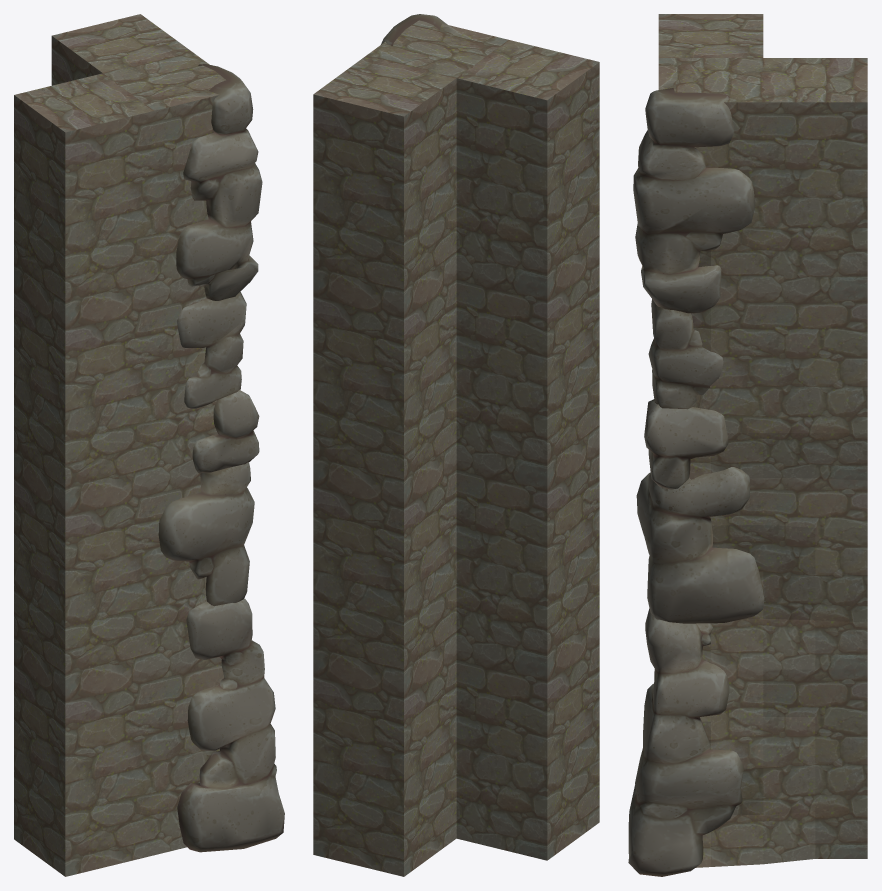
File: MSH_fwOF_Ruins_Wall_Corner_Bot.fbx
The picture shows the model from 3 angles, left to right: view 1: azimuth 30°, elevation 25°; view 2: azimuth 150°, elevation 25°; view 3: azimuth 270°, elevation 25°; orthographic projection. The views are drawn at different scales.
Visible parts, largest first — view 1: MSH_fwOF_Ruins_Wall_Corner_Bot, MSH_fwOF_Ruins_Wall_Corner_LOD0; view 2: MSH_fwOF_Ruins_Wall_Corner_Bot, MSH_fwOF_Ruins_Wall_Corner_LOD0; view 3: MSH_fwOF_Ruins_Wall_Corner_Bot, MSH_fwOF_Ruins_Wall_Corner_LOD0.
Boxes of the visible parts, left/top/right/bottom form: MSH_fwOF_Ruins_Wall_Corner_Bot: left=14, top=14, right=225, bottom=876; MSH_fwOF_Ruins_Wall_Corner_LOD0: left=158, top=64, right=284, bottom=852; MSH_fwOF_Ruins_Wall_Corner_Bot: left=313, top=20, right=599, bottom=876; MSH_fwOF_Ruins_Wall_Corner_LOD0: left=381, top=14, right=447, bottom=45; MSH_fwOF_Ruins_Wall_Corner_Bot: left=658, top=14, right=867, bottom=867; MSH_fwOF_Ruins_Wall_Corner_LOD0: left=628, top=88, right=764, bottom=876.
Size of what is drawn, in the model's own units: 2.4 by 8.14 by 2.29.
